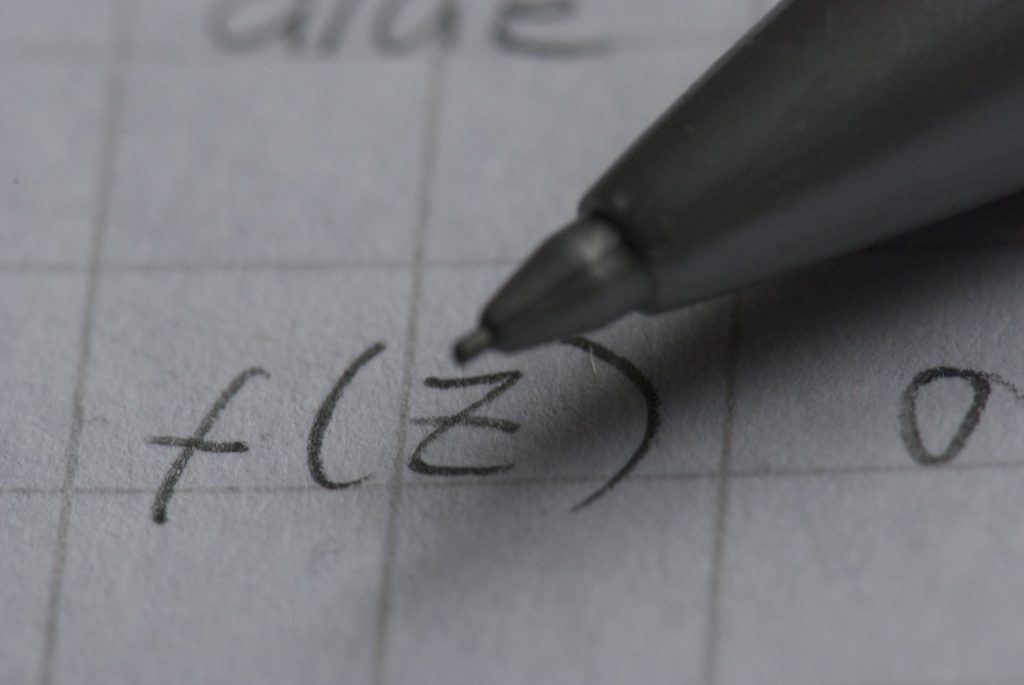Pen: (451, 0, 1023, 360)
